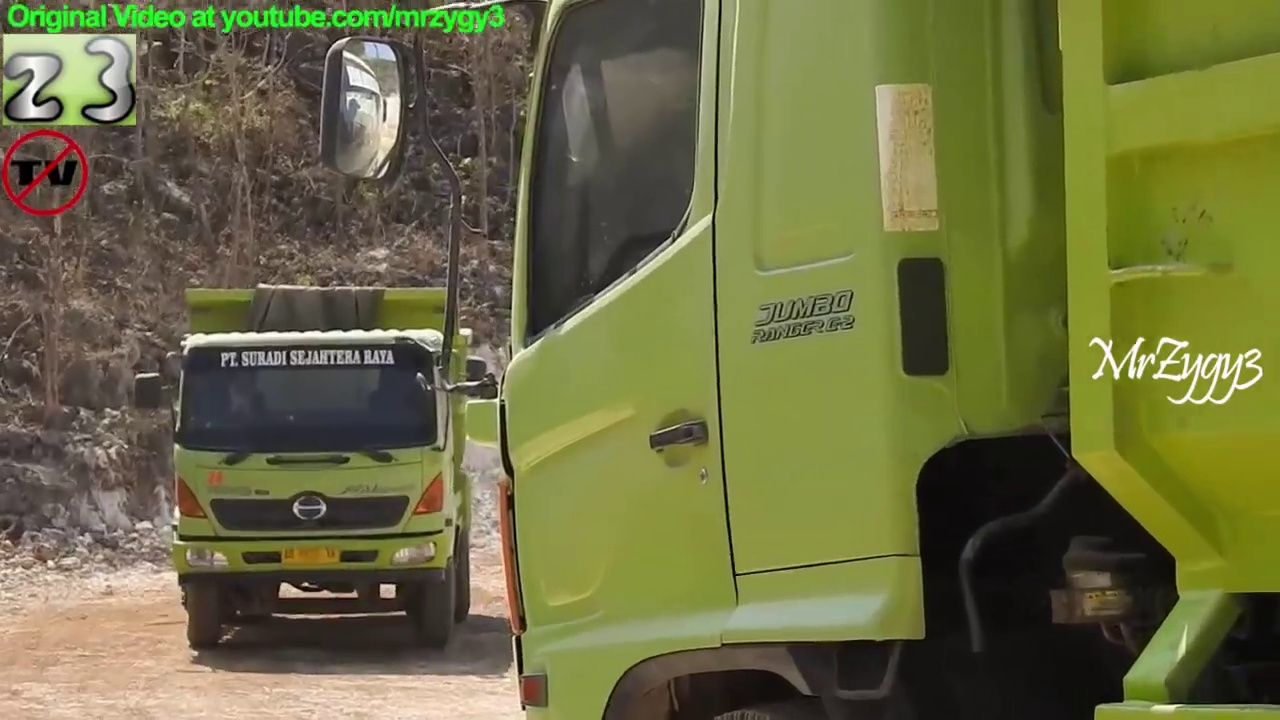truck: (310, 1, 1280, 720), (127, 278, 503, 655)
